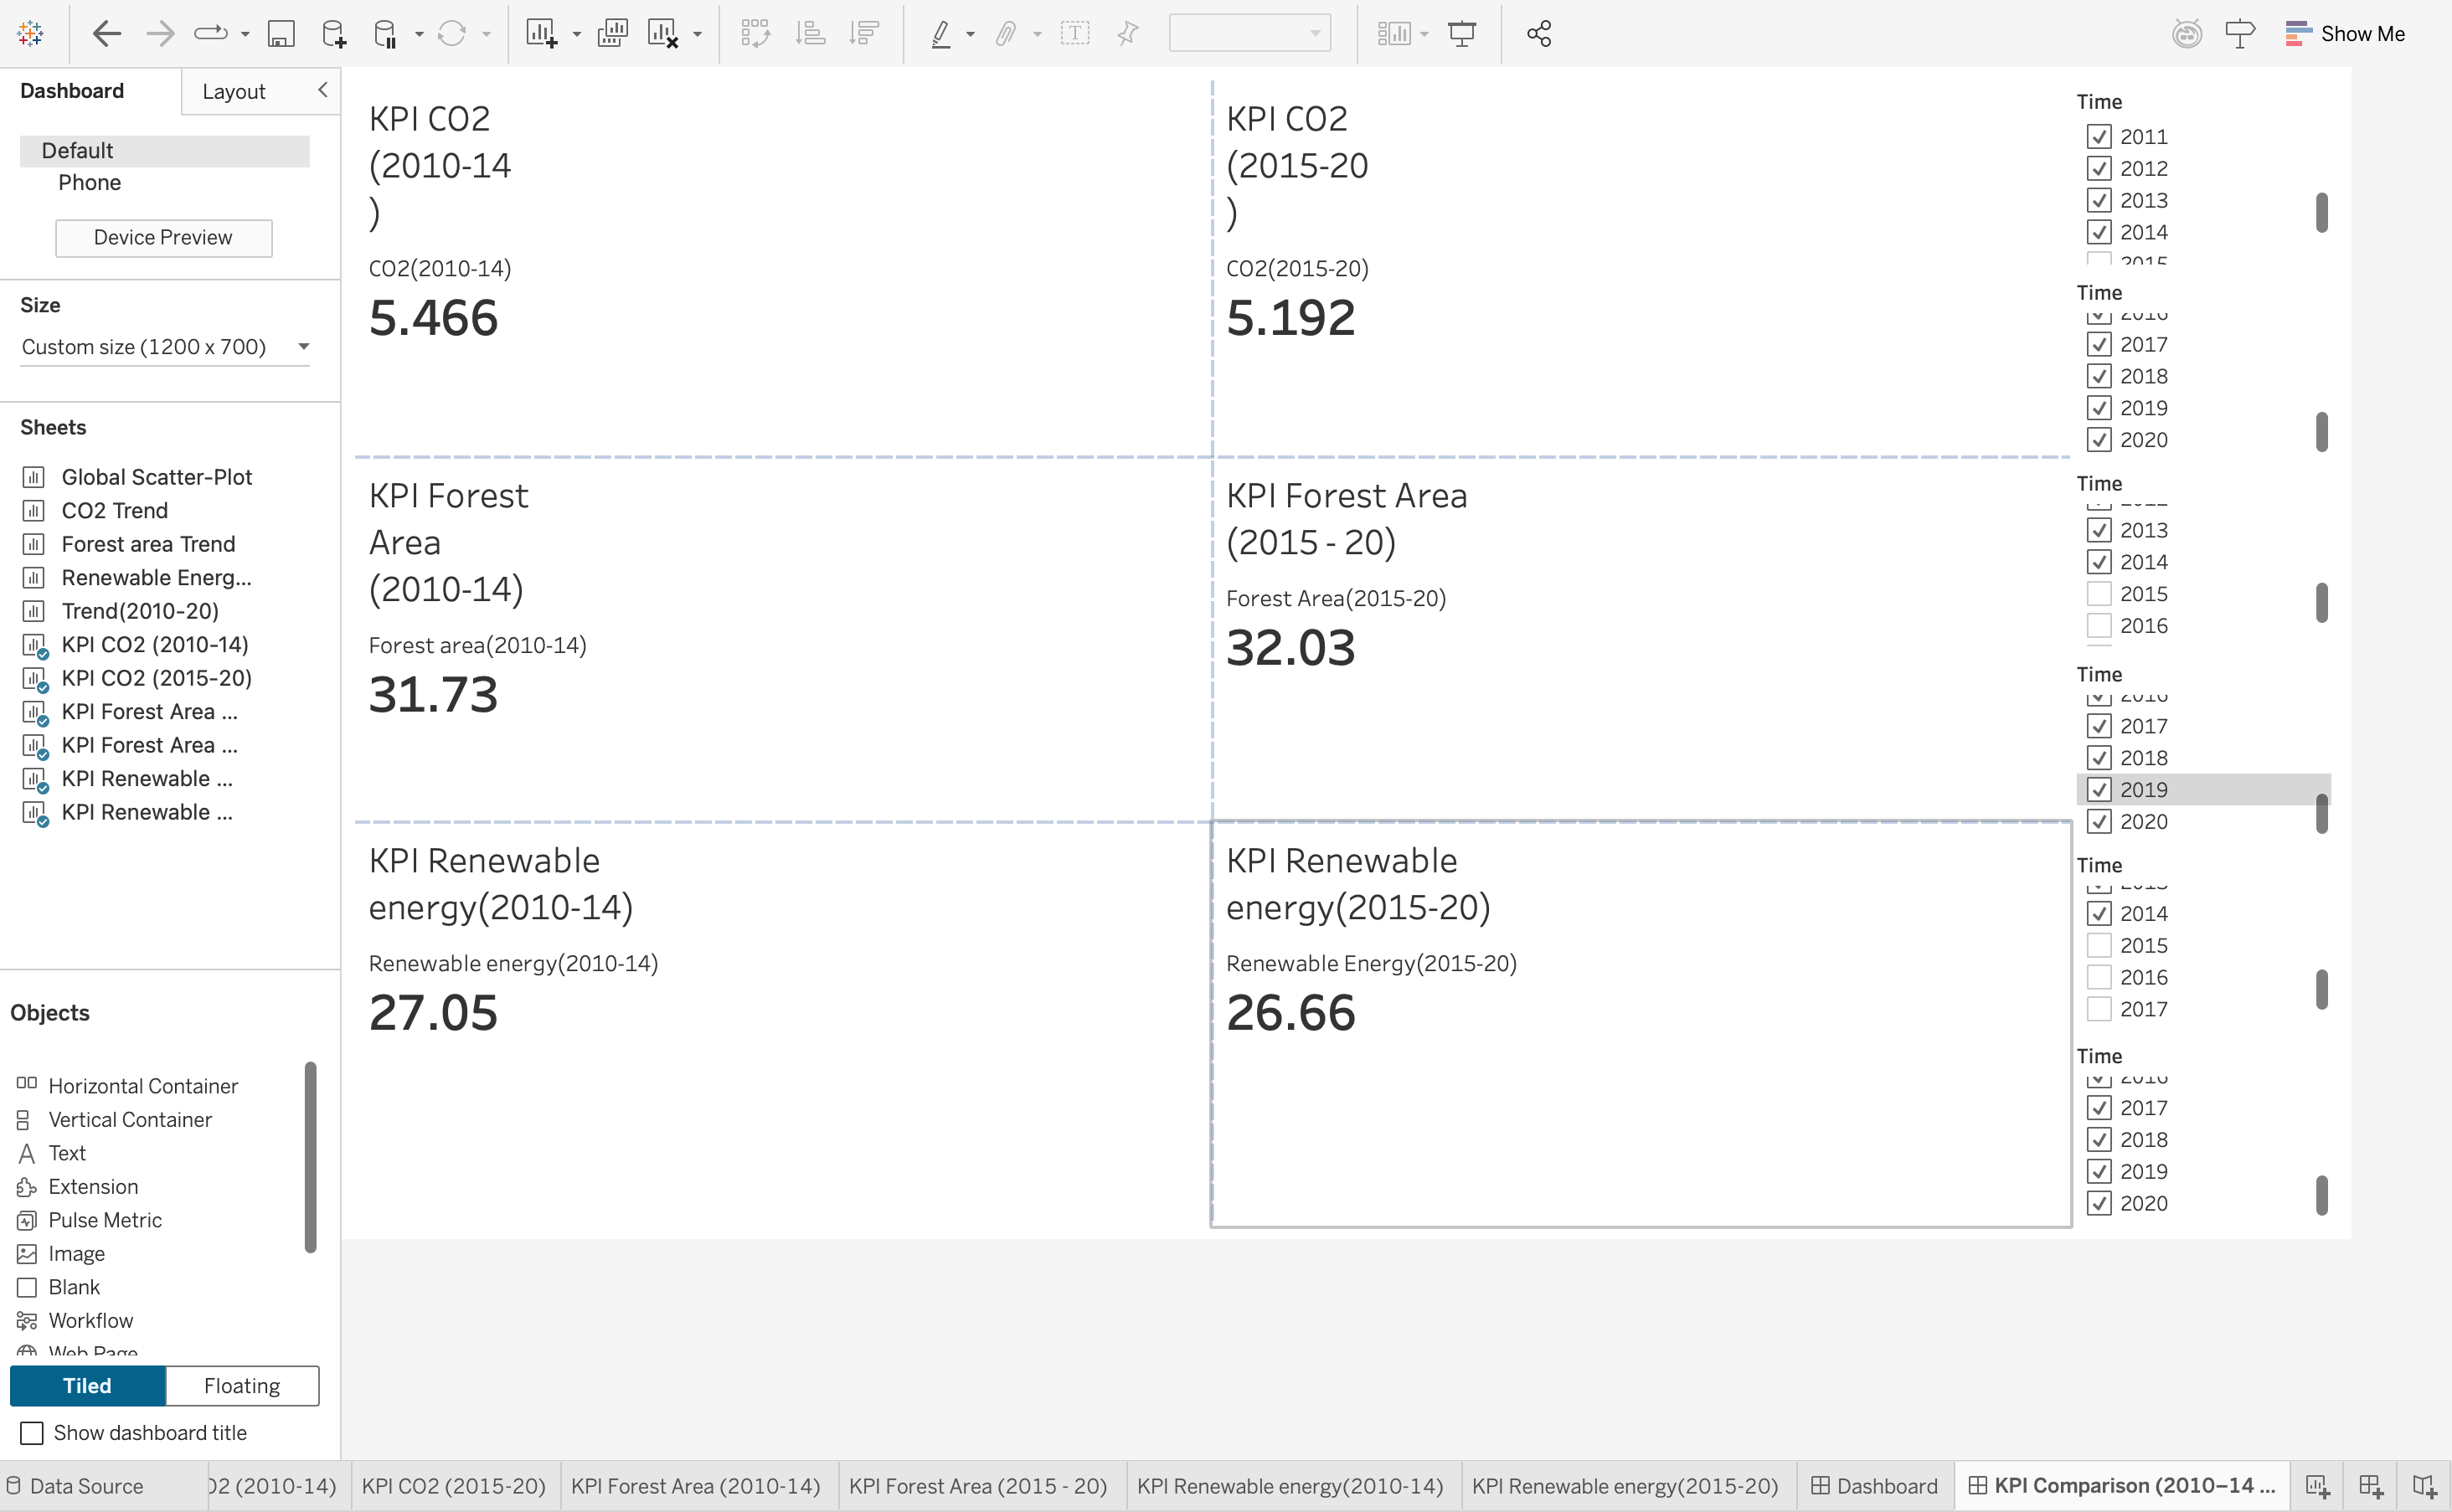

What the dashboard file says about the page in this screenshot:
{"tool":"tableau","page":{"name":"Dashboard","canvas":[1366,768],"ordinal":0},"visuals":[{"type":"filter","title":"Trend(2010-20)","param":"[federated.1gs9cez1xdrykv1d21aq31af13sh].[none:Country Name:nk]","box":[1168,19,168,75]},{"type":"text","box":[29,29,1308,28.4]},{"type":"text","box":[29,57.4,1308,28.4]},{"type":"text","box":[838.8,105.7,518.2,30]},{"type":"text","box":[19,115.7,809.8,30]},{"type":"worksheet","title":"Trend(2010-20)","mark":"Line","rows":["Forest area (% of land area) (AG.LND.FRST.ZS)","CO2 emissions (metric tons per capita) (EN.ATM.CO2E.PC)"],"cols":["Time"],"box":[838.8,135.7,518.2,623.3]},{"type":"worksheet","title":"KPI CO2 (2010-14)","mark":"Automatic","box":[19,146,270,66]},{"type":"worksheet","title":"KPI Forest Area (2010-14)","mark":"Automatic","box":[289,146,270,66]},{"type":"worksheet","title":"KPI Renewable energy(2010-14)","mark":"Automatic","box":[559,146,270,66]},{"type":"worksheet","title":"KPI CO2 (2015-20)","mark":"Automatic","box":[19,212,270,101]},{"type":"worksheet","title":"KPI Forest Area (2015 - 20)","mark":"Automatic","box":[289,212,270,101]},{"type":"worksheet","title":"KPI Renewable energy(2010-14) (2)","mark":"Automatic","box":[559,212,270,101]},{"type":"blank","box":[19,312.7,809.8,10]},{"type":"text","box":[19,322.7,809.8,30]},{"type":"worksheet","title":"Global Scatter-Plot","mark":"Automatic","rows":["CO2 emissions (metric tons per capita) (EN.ATM.CO2E.PC)"],"cols":["Manufacturing, value added (% of GDP) (NV.IND.MANF.ZS)"],"box":[19,352.8,809.8,396.2]}]}

Visuals, with their boxes on the page's 1366x768 design canvas (x1, y1, x2, y2). These are canvas units, not pixel positions in the 2452x1512 screenshot, which may show the page scaled, cropped or inside an application window:
"Trend(2010-20)" filter: locate(1168, 19, 1336, 94)
text: locate(29, 29, 1337, 57)
text: locate(29, 57, 1337, 86)
text: locate(839, 106, 1357, 136)
text: locate(19, 116, 829, 146)
"Trend(2010-20)" worksheet (Line marks): locate(839, 136, 1357, 759)
"KPI CO2 (2010-14)" worksheet: locate(19, 146, 289, 212)
"KPI Forest Area (2010-14)" worksheet: locate(289, 146, 559, 212)
"KPI Renewable energy(2010-14)" worksheet: locate(559, 146, 829, 212)
"KPI CO2 (2015-20)" worksheet: locate(19, 212, 289, 313)
"KPI Forest Area (2015 - 20)" worksheet: locate(289, 212, 559, 313)
"KPI Renewable energy(2010-14) (2)" worksheet: locate(559, 212, 829, 313)
blank: locate(19, 313, 829, 323)
text: locate(19, 323, 829, 353)
"Global Scatter-Plot" worksheet: locate(19, 353, 829, 749)
